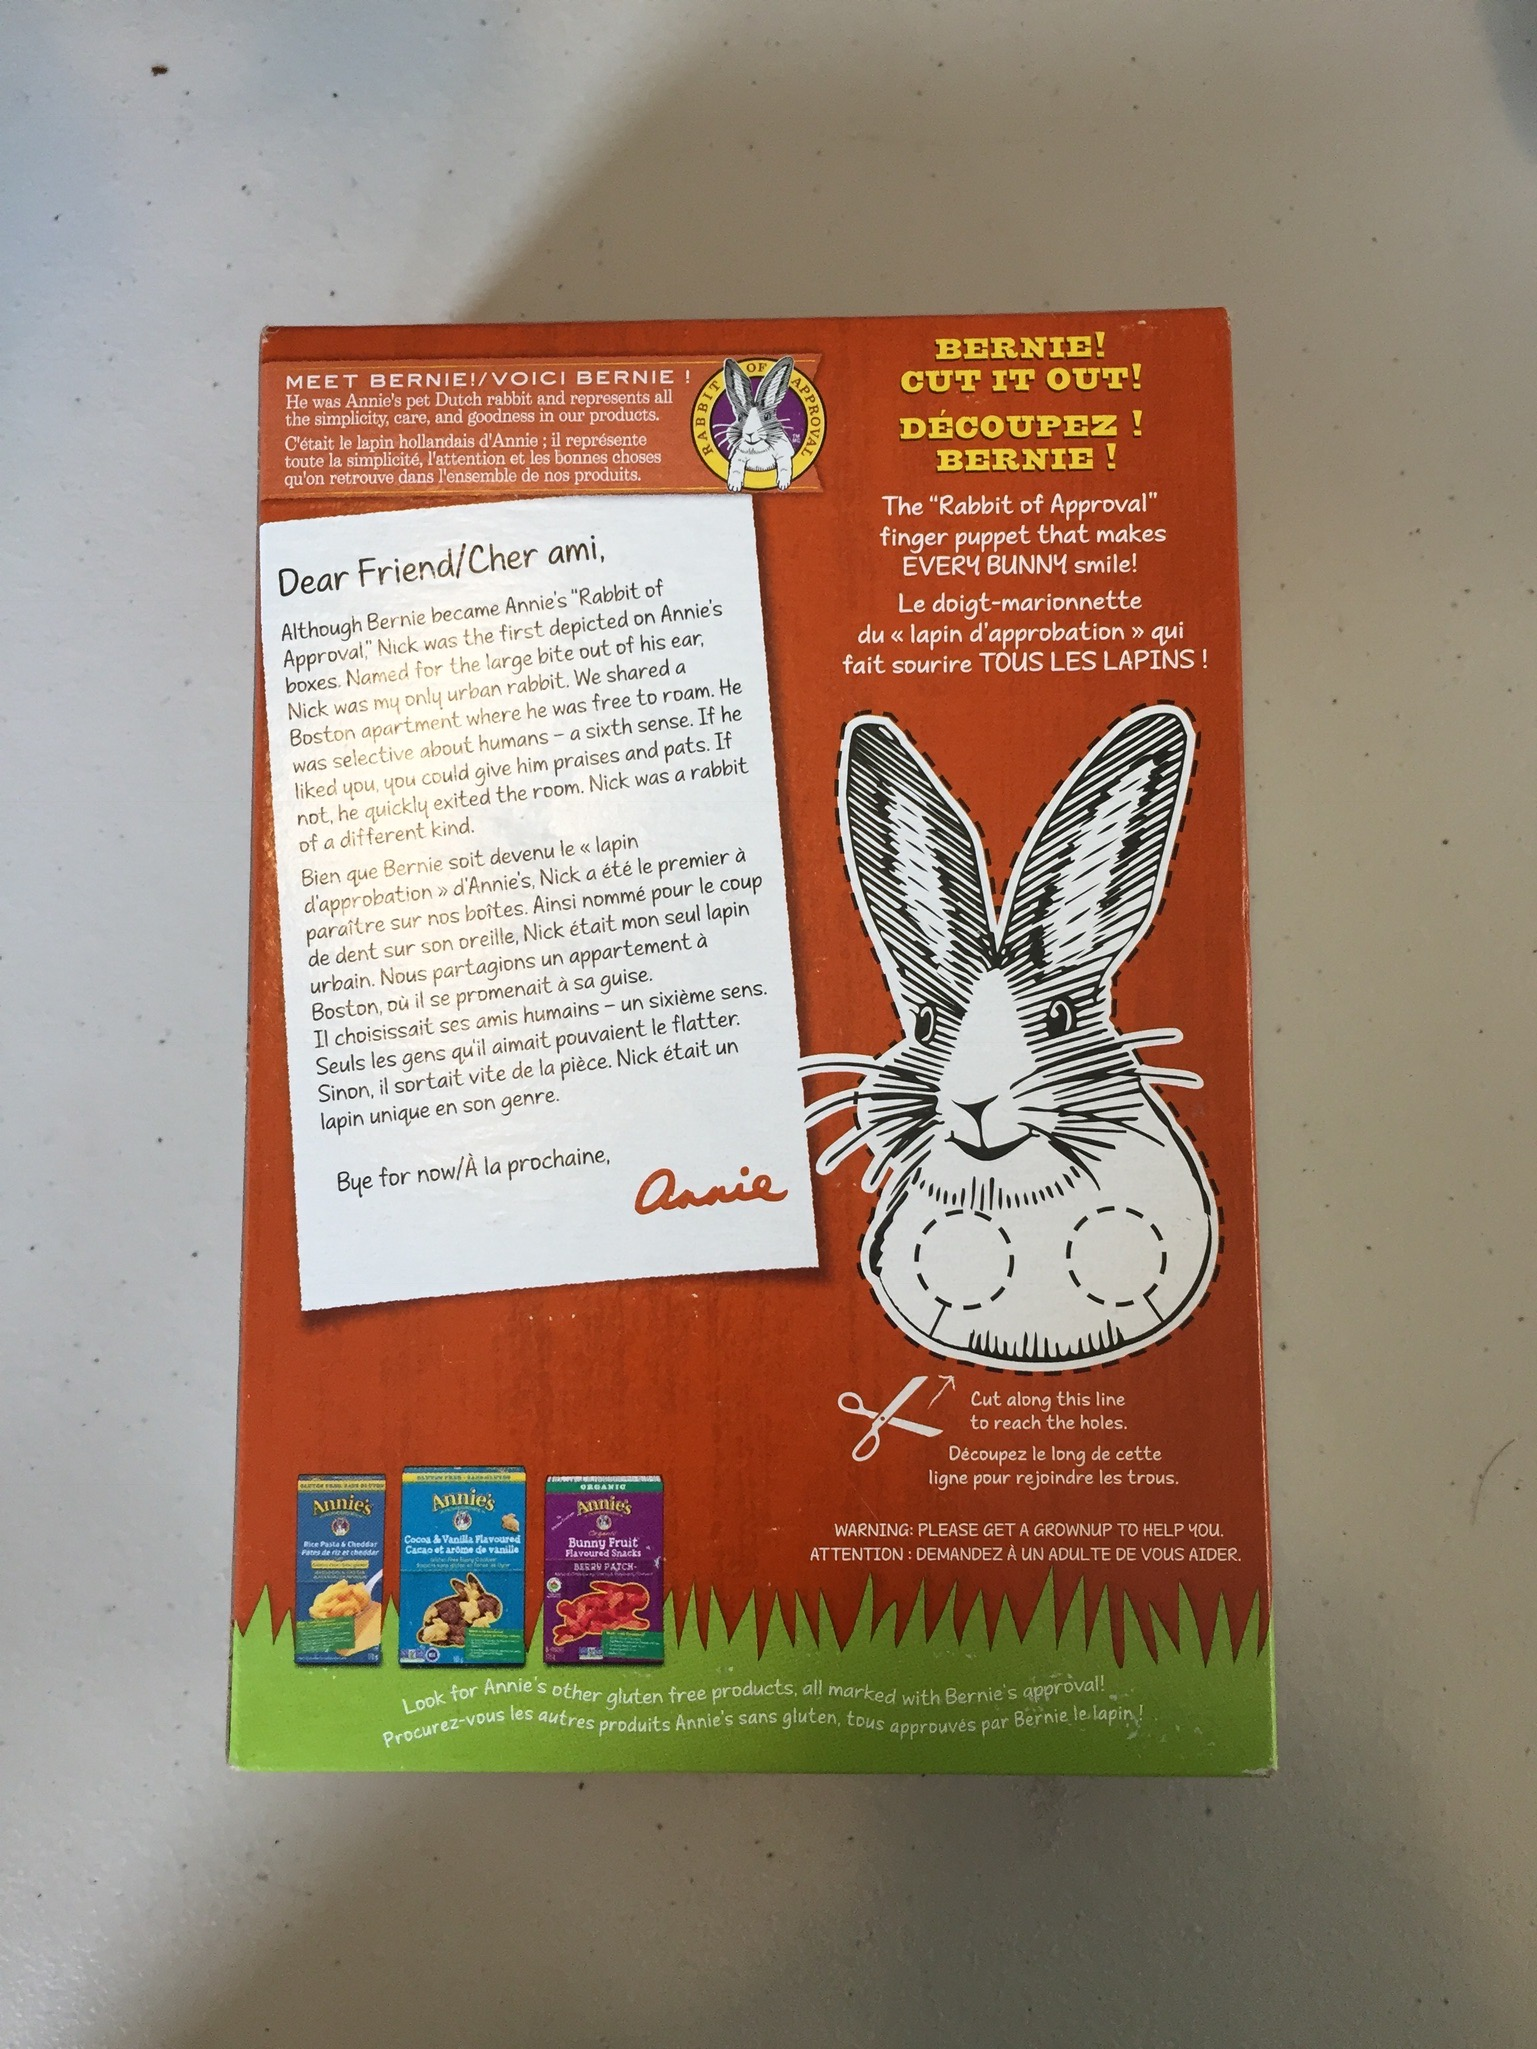annies_snickerdoodle_cinnamon_sugar: (274, 329, 1238, 1760)
